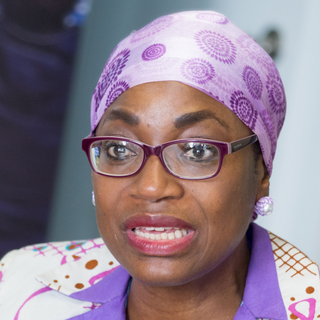eye: (180, 139, 222, 164), (102, 139, 140, 163)
